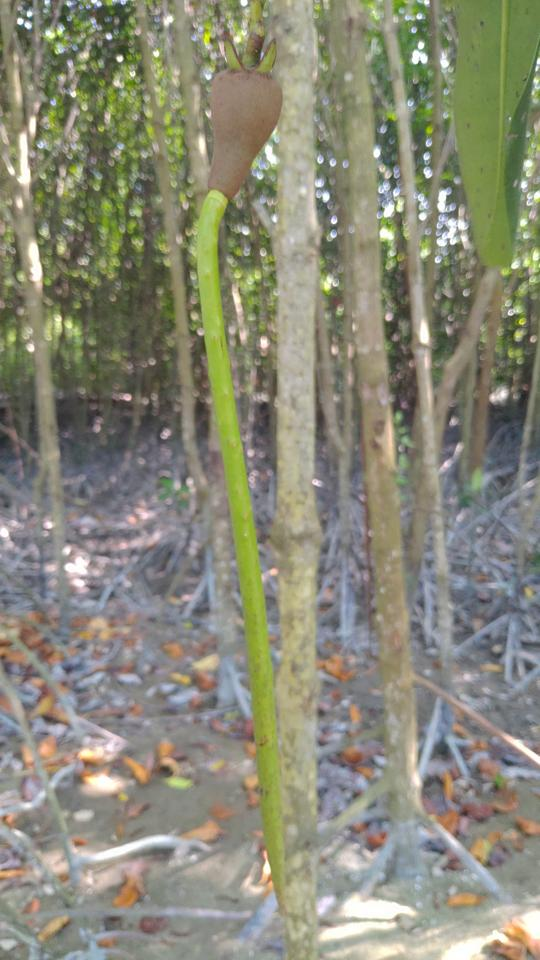setengah matang: (186, 23, 322, 936)
